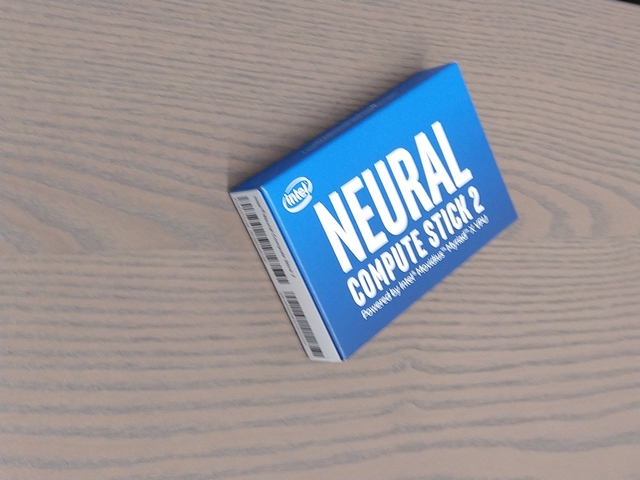box: (227, 61, 519, 365)
